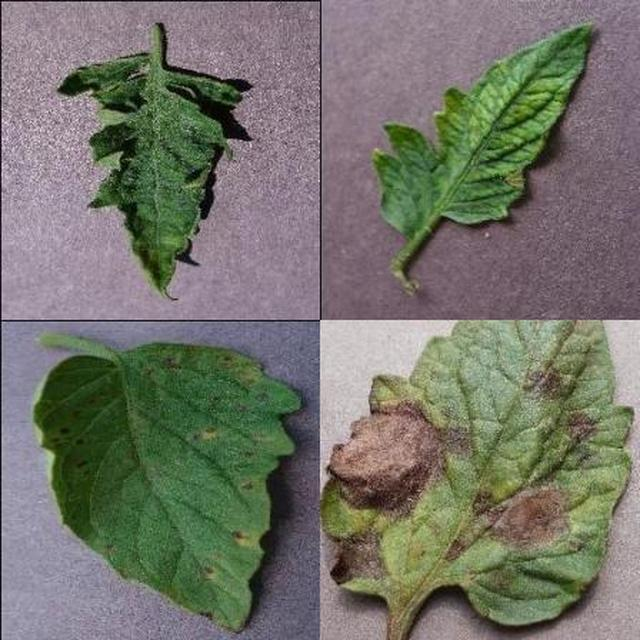Mosaic Virus Leaf: (209, 186, 640, 640)
